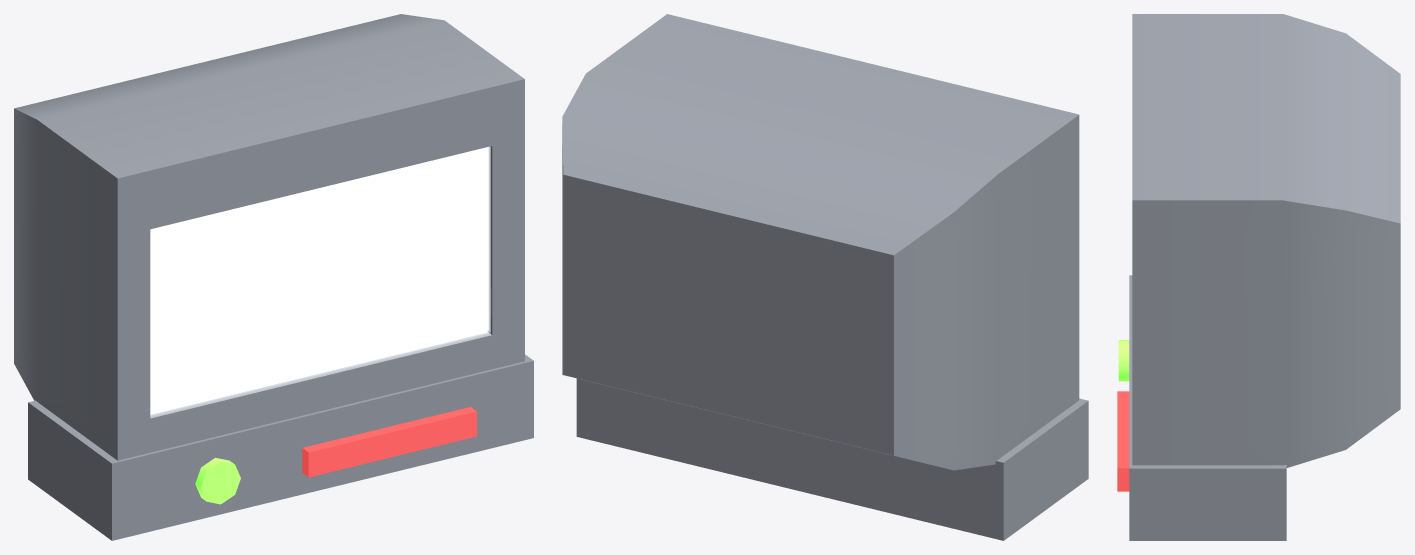
File: comp02.fbx
3 views of the same model, side by side, from view 1: azimuth 30°, elevation 25°; view 2: azimuth 150°, elevation 25°; view 3: azimuth 270°, elevation 25° (orthographic). The views are drawn at different scales.
Parts seen in each view (by area): view 1: top, bottom, button1, button; view 2: top, bottom; view 3: top, bottom, button1, button.
Boxes of the visible parts, left/top/right/bottom form: top: left=14, top=14, right=524, bottom=460; bottom: left=28, top=354, right=533, bottom=540; button1: left=302, top=407, right=476, bottom=477; button: left=195, top=458, right=240, bottom=504; top: left=562, top=14, right=1079, bottom=470; bottom: left=576, top=378, right=1088, bottom=540; top: left=1132, top=14, right=1400, bottom=467; bottom: left=1129, top=275, right=1286, bottom=540; button1: left=1117, top=391, right=1129, bottom=491; button: left=1118, top=340, right=1129, bottom=381.
Bounding box in the file's own units: 13.08 × 10.65 × 8.11.
Materials: 1 (1 with a texture image).
